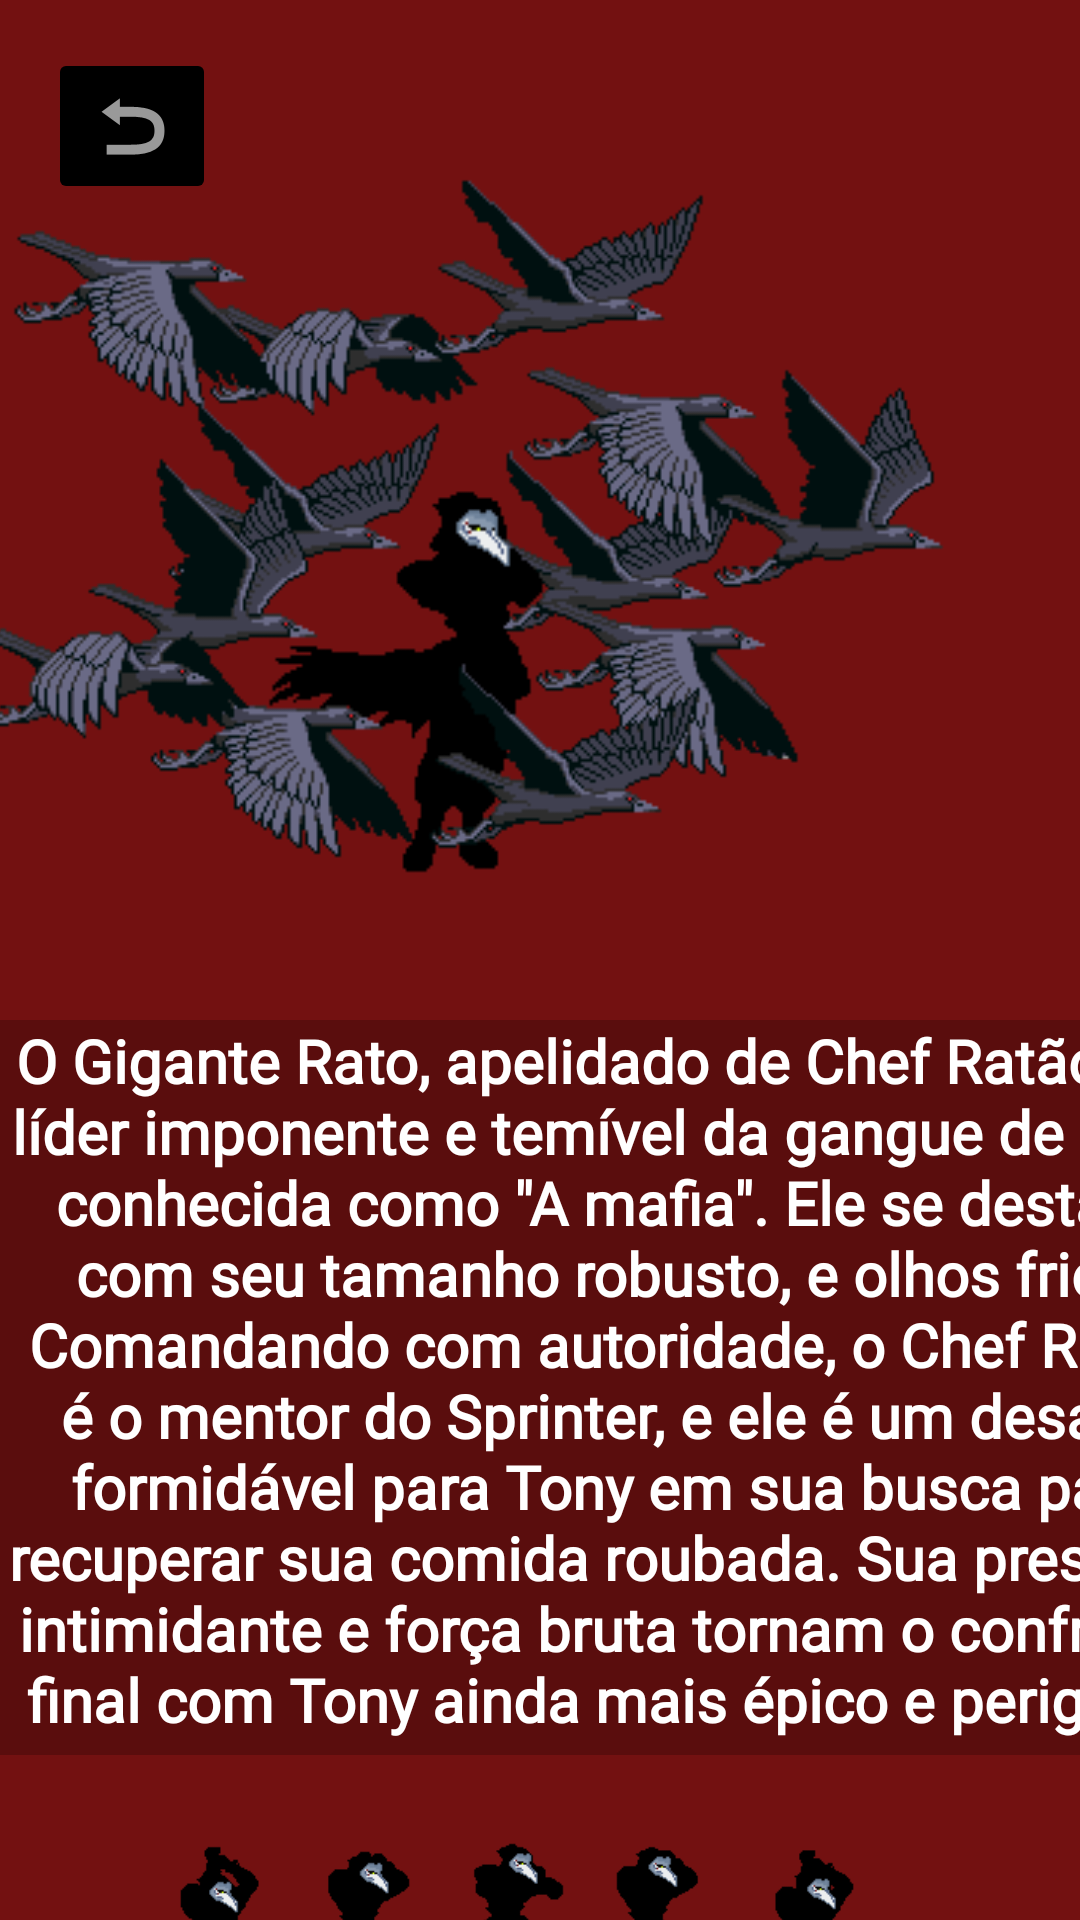

Named icons in this screenshot (1080*1920) and their bounding boxes, rect(x1, y1, x2, y2):
revert: rect(60, 66, 204, 186)
